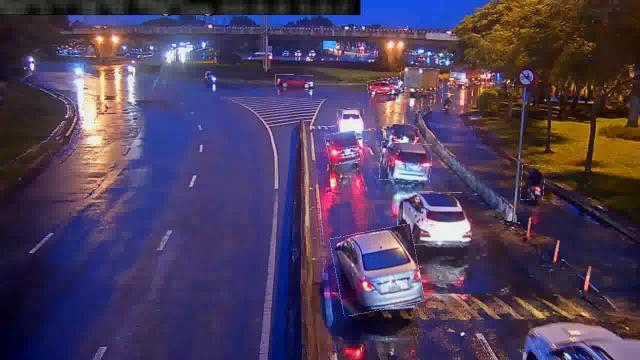Bike: (522, 166, 544, 200), (442, 94, 454, 110)
Car: (333, 227, 422, 313), (398, 192, 470, 244), (380, 142, 432, 182), (326, 131, 360, 165), (338, 108, 364, 132), (384, 124, 416, 142), (275, 75, 313, 89), (368, 78, 400, 94)
Truck: (401, 68, 444, 92)
